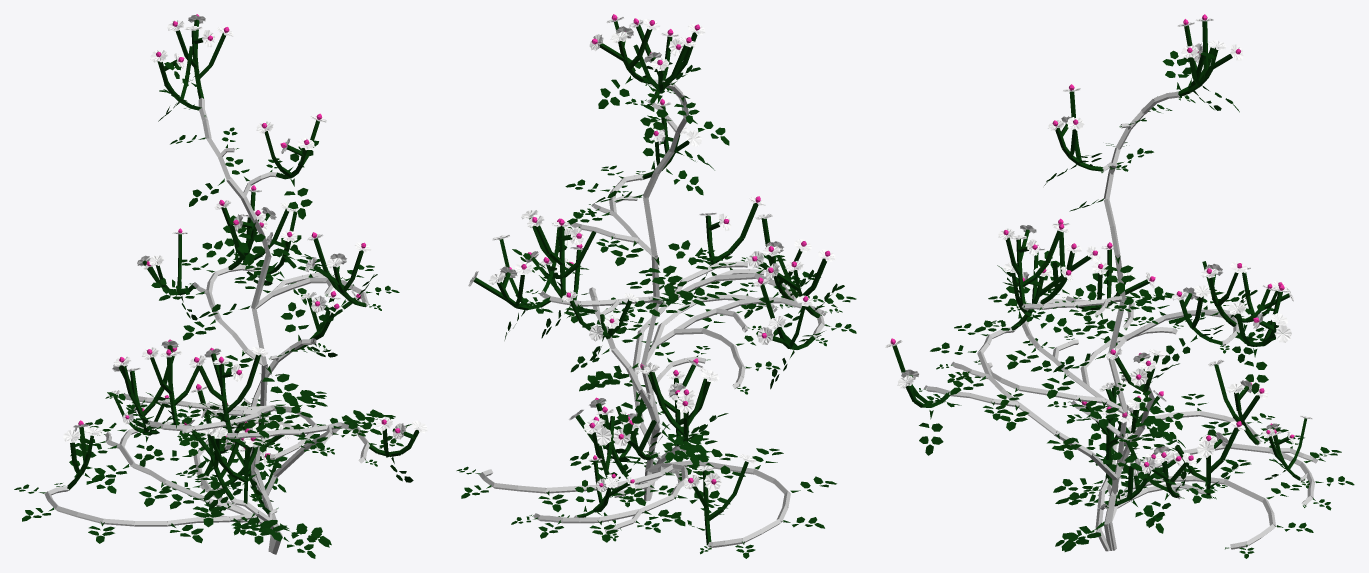
The picture shows the model from 3 angles, left to right: view 1: azimuth 30°, elevation 25°; view 2: azimuth 150°, elevation 25°; view 3: azimuth 270°, elevation 25°; orthographic projection. The views are drawn at different scales.
Parts seen in each view (by area): view 1: leaves1, branches, stems, flowers, leaves2, buds; view 2: branches, stems, leaves1, flowers, leaves2, buds; view 3: branches, stems, leaves1, flowers, leaves2, buds.
Part boxes in pixels (box(x1,y1,x2,y2)): leaves1: box(14, 104, 403, 558); branches: box(44, 97, 369, 554); stems: box(67, 19, 419, 514); flowers: box(62, 15, 427, 465); leaves2: box(69, 62, 413, 503); buds: box(78, 14, 400, 457); branches: box(479, 79, 826, 547); stems: box(473, 21, 826, 545); leaves1: box(456, 82, 856, 558); flowers: box(468, 17, 835, 492); leaves2: box(504, 57, 844, 530); buds: box(509, 14, 830, 487); branches: box(924, 91, 1317, 551); stems: box(892, 21, 1306, 506); leaves1: box(919, 95, 1354, 558); flowers: box(885, 18, 1312, 475); leaves2: box(919, 50, 1292, 533); buds: box(890, 14, 1294, 469).
Bounding box in the file's own units: 91.12 × 135 × 113.
